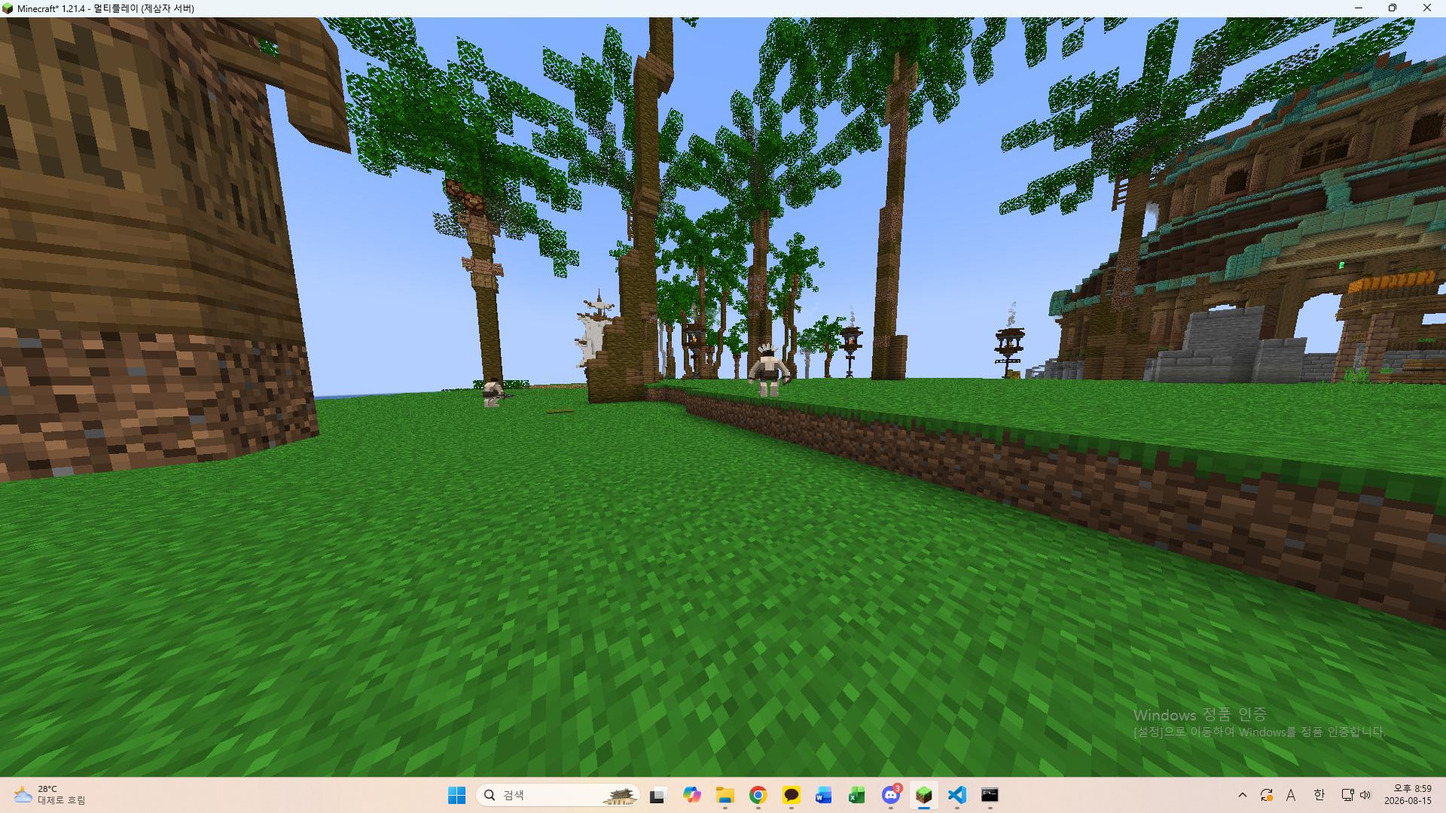bow_indian: (734, 331, 797, 409)
